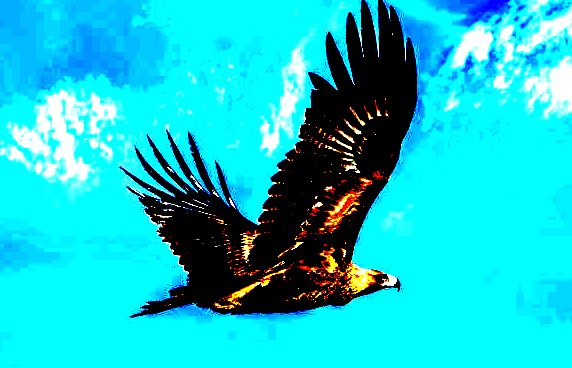Bird: (112, 2, 419, 321)
